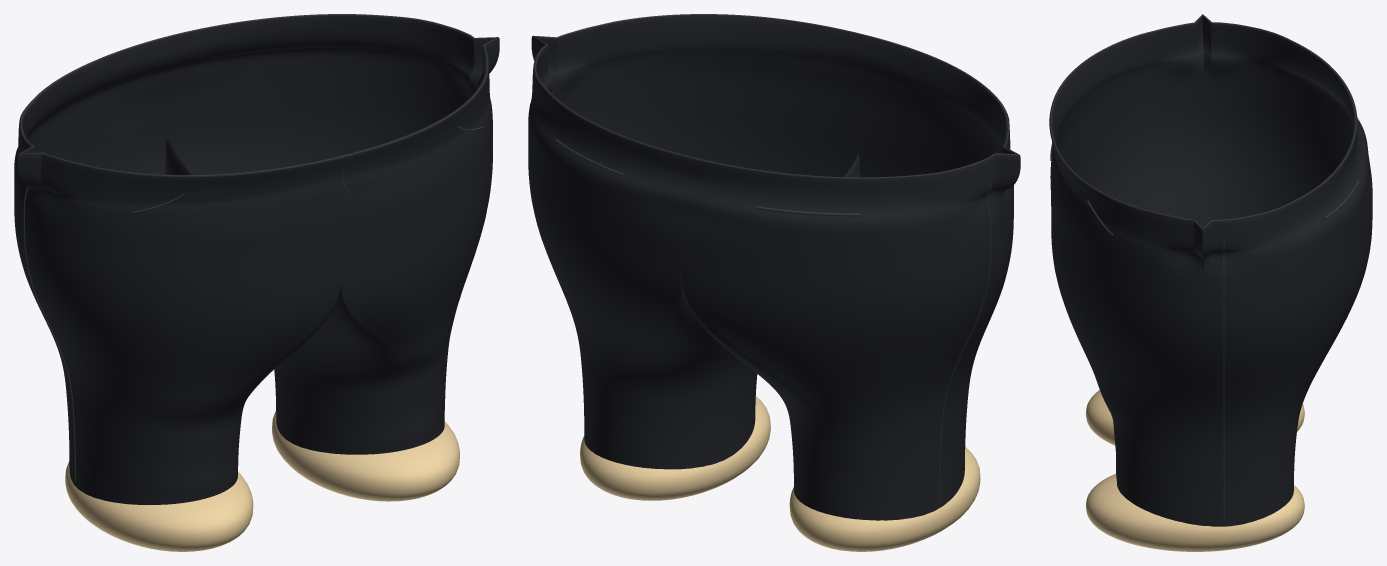
The model's file is Feminine-pants-bottom.glb.
The picture shows the model from 3 angles, left to right: view 1: azimuth 30°, elevation 25°; view 2: azimuth 150°, elevation 25°; view 3: azimuth 270°, elevation 25°; orthographic projection. The views are drawn at different scales.
Visible parts, largest first — view 1: Bottom / continuous pants187, Skin / pants foot187 1, Skin / pants foot187 -1, Bottom / pants hem187 0 export, Bottom / side seam187 -1 export; view 2: Bottom / continuous pants187, Skin / pants foot187 1, Skin / pants foot187 -1, Bottom / pants hem187 0 export, Bottom / side seam187 -1 export; view 3: Bottom / continuous pants187, Skin / pants foot187 1, Bottom / pants hem187 0 export, Skin / pants foot187 -1, Bottom / side seam187 1 export.
Boxes of the visible parts, left/top/right/bottom form: Bottom / continuous pants187: left=14, top=15, right=499, bottom=504; Skin / pants foot187 1: left=272, top=411, right=459, bottom=501; Skin / pants foot187 -1: left=65, top=461, right=253, bottom=551; Bottom / pants hem187 0 export: left=18, top=14, right=498, bottom=176; Bottom / side seam187 -1 export: left=23, top=187, right=75, bottom=480; Bottom / continuous pants187: left=528, top=15, right=1020, bottom=520; Skin / pants foot187 1: left=580, top=396, right=770, bottom=500; Skin / pants foot187 -1: left=789, top=447, right=980, bottom=551; Bottom / pants hem187 0 export: left=532, top=14, right=1019, bottom=178; Bottom / side seam187 -1 export: left=938, top=180, right=991, bottom=502; Bottom / continuous pants187: left=1049, top=15, right=1372, bottom=526; Skin / pants foot187 1: left=1086, top=474, right=1304, bottom=551; Bottom / pants hem187 0 export: left=1050, top=14, right=1356, bottom=229; Skin / pants foot187 -1: left=1086, top=390, right=1304, bottom=445; Bottom / side seam187 1 export: left=1223, top=240, right=1224, bottom=520.
Size of the model in its own units: 0.6487 by 0.516 by 0.4103.
